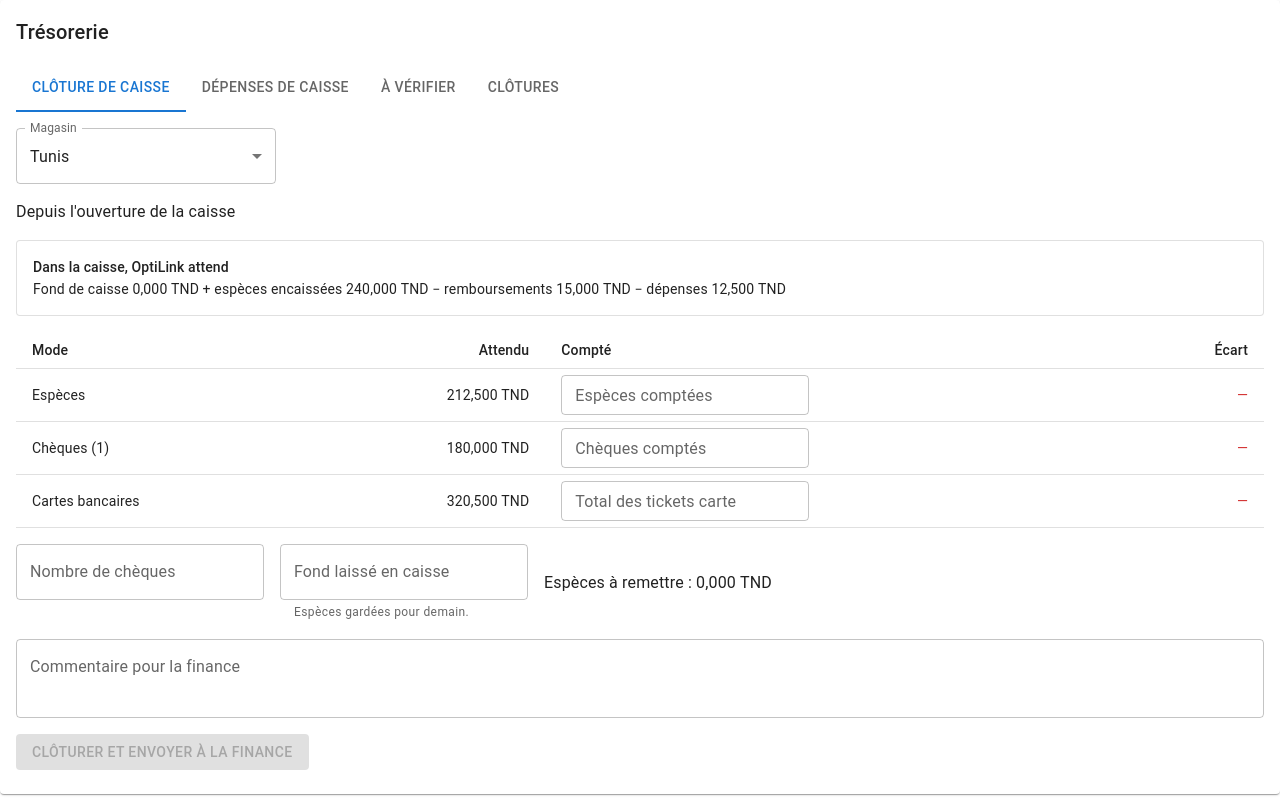
le caissier compte sa caisse et voit les écarts avant d'envoyer
The image size is (1280, 798).
Type "250" into the field labelled "Espèces comptées" at (685, 395), box [561,375,809,415]
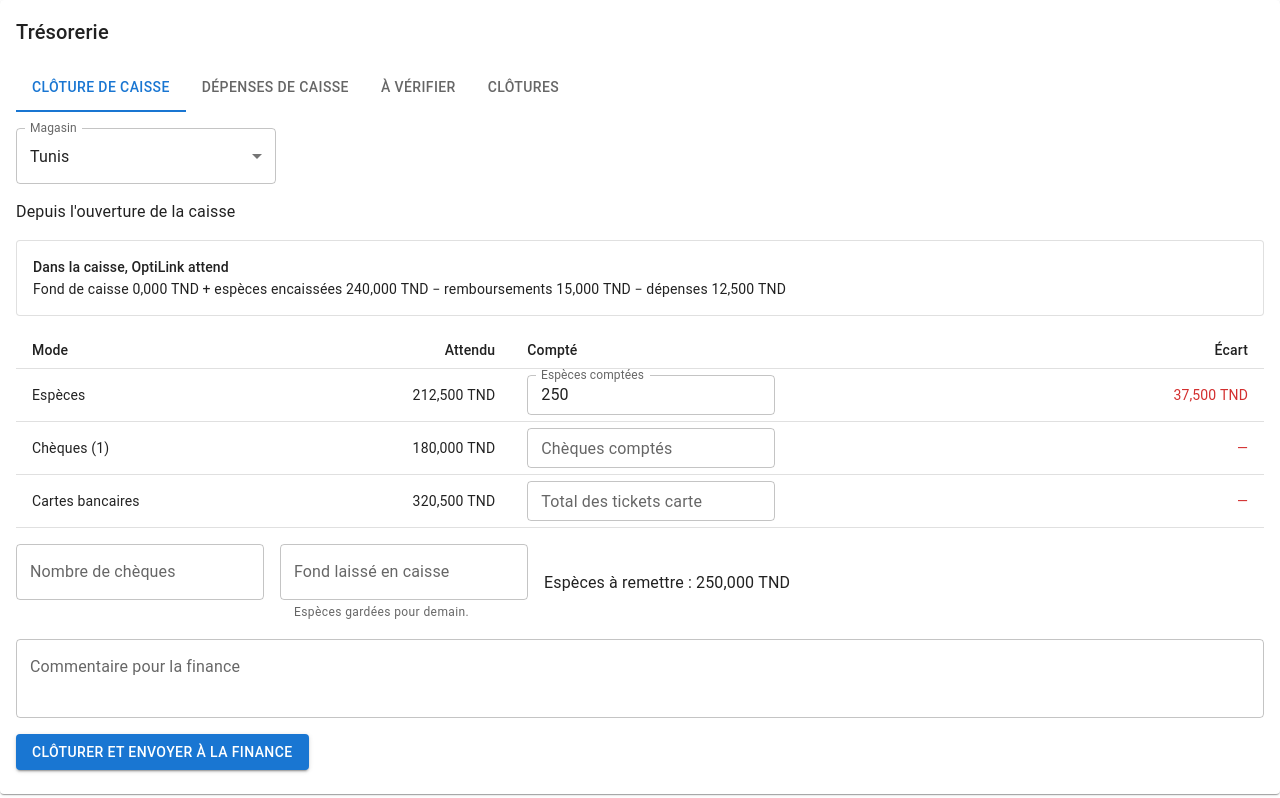
Type "180" into the field labelled "Chèques comptés" at (651, 448), box [527,428,775,468]
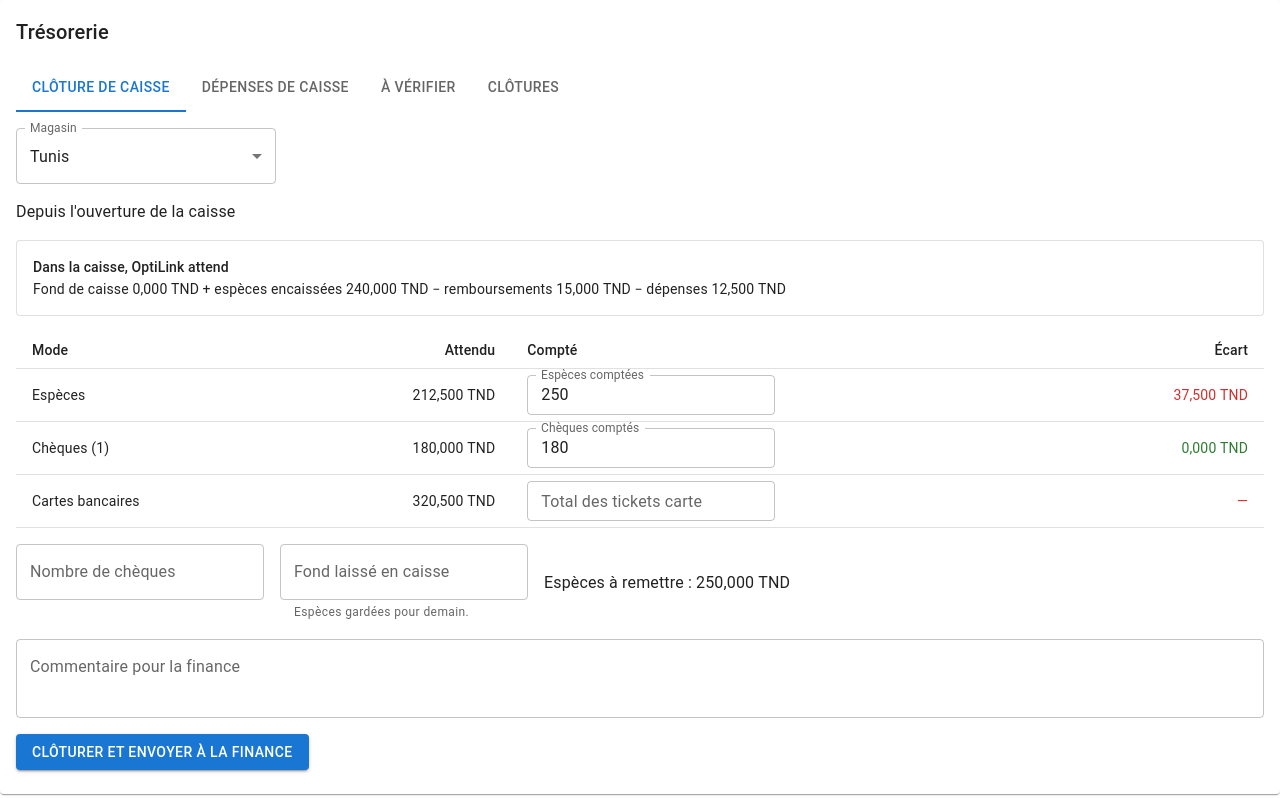
Type "1" into the field labelled "Nombre de chèques" at (140, 572), box [16,544,264,600]
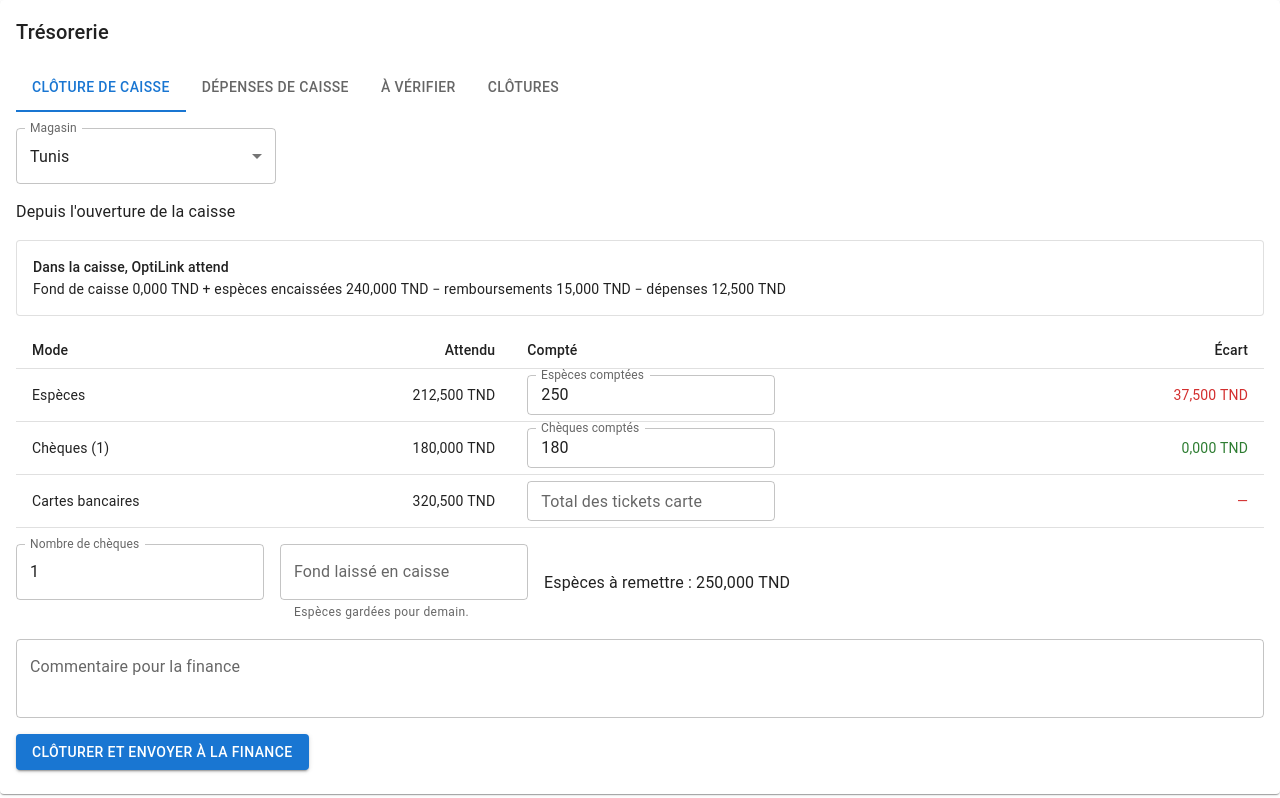
Type "320.5" into the field labelled "Total des tickets carte" at (651, 501), box [527,481,775,521]
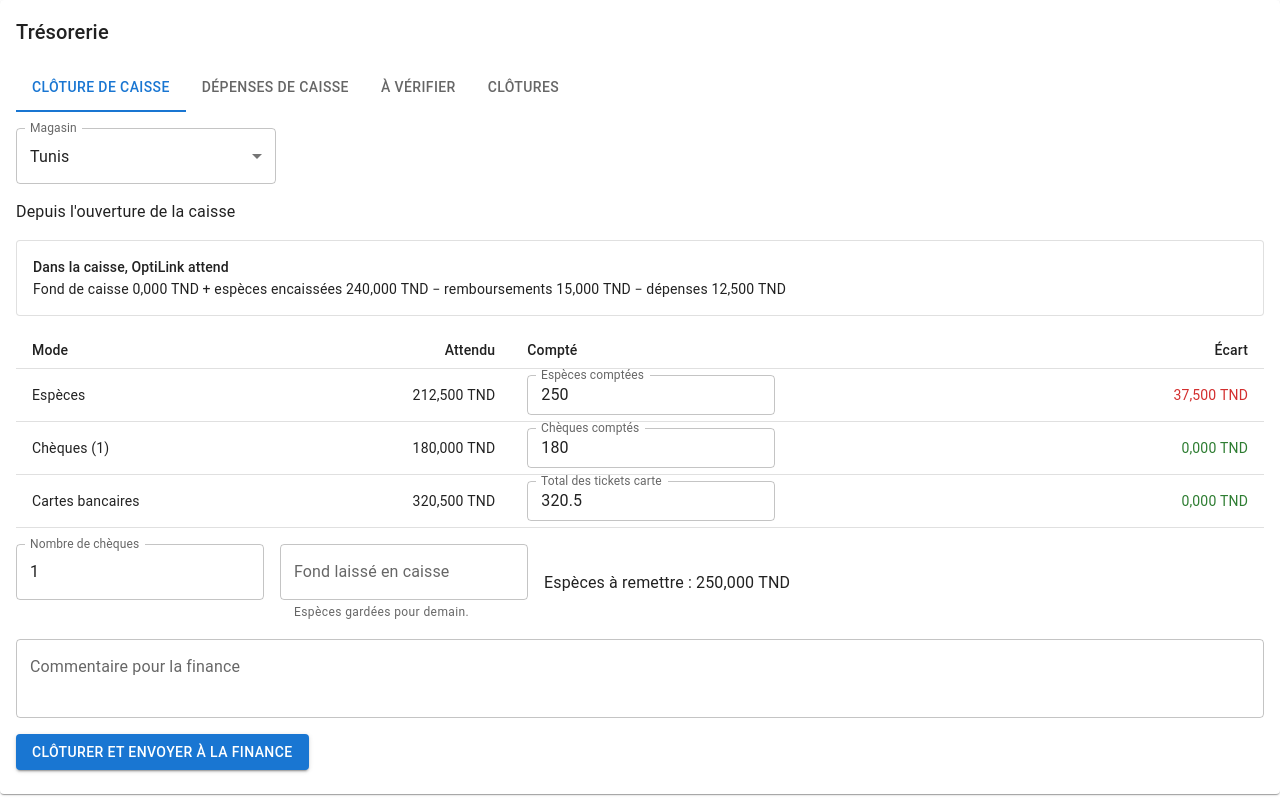
Type "50" into the field labelled "Fond laissé en caisse" at (404, 572), box [280,544,528,600]
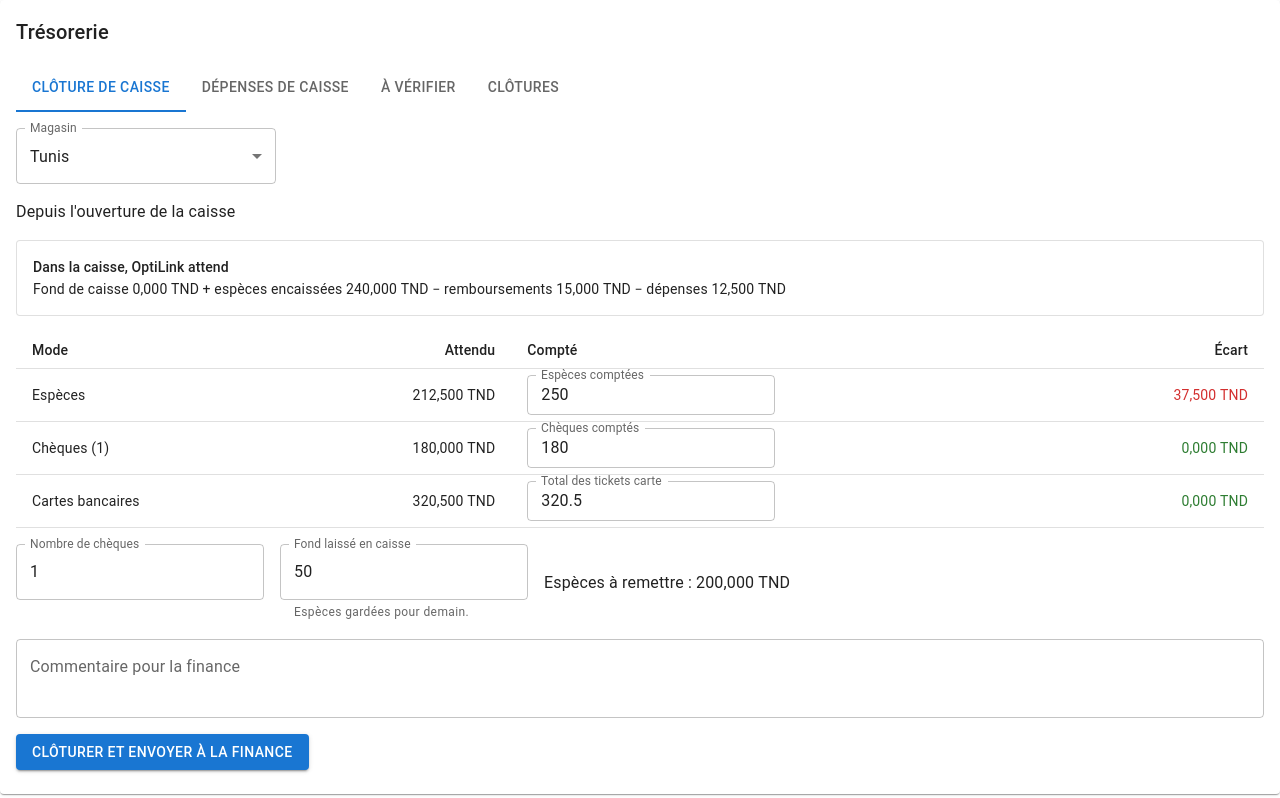
Click the button "Clôturer et envoyer à la finance" at (162, 752), box [16,734,309,770]
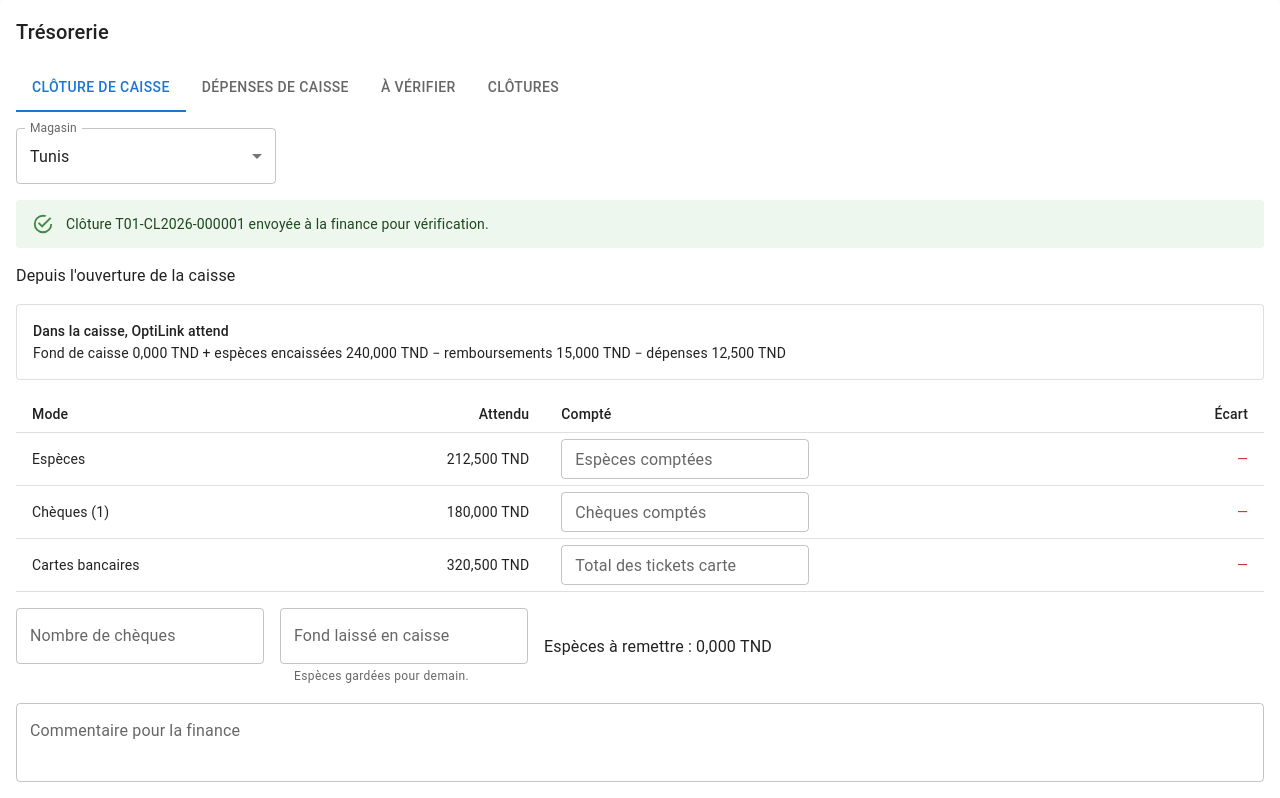
expect the text "T01-CL2026-000001 envoyée à la finance" is shown: met, box [66,216,489,232]
